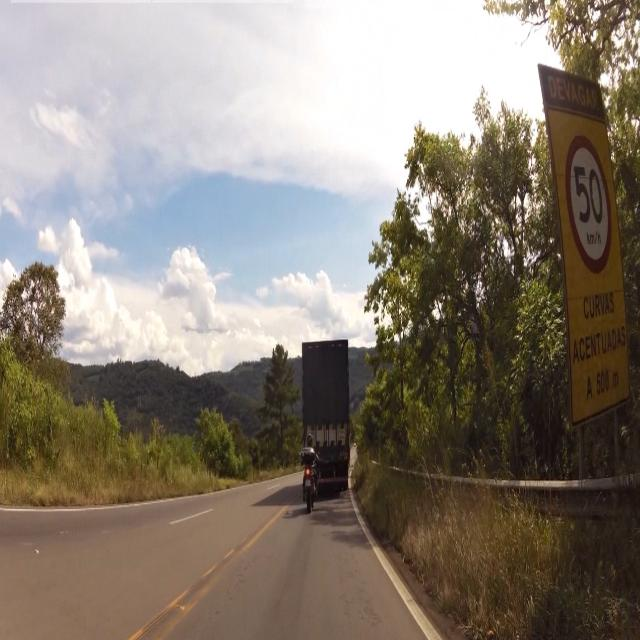R-19: (558, 124, 622, 274)
